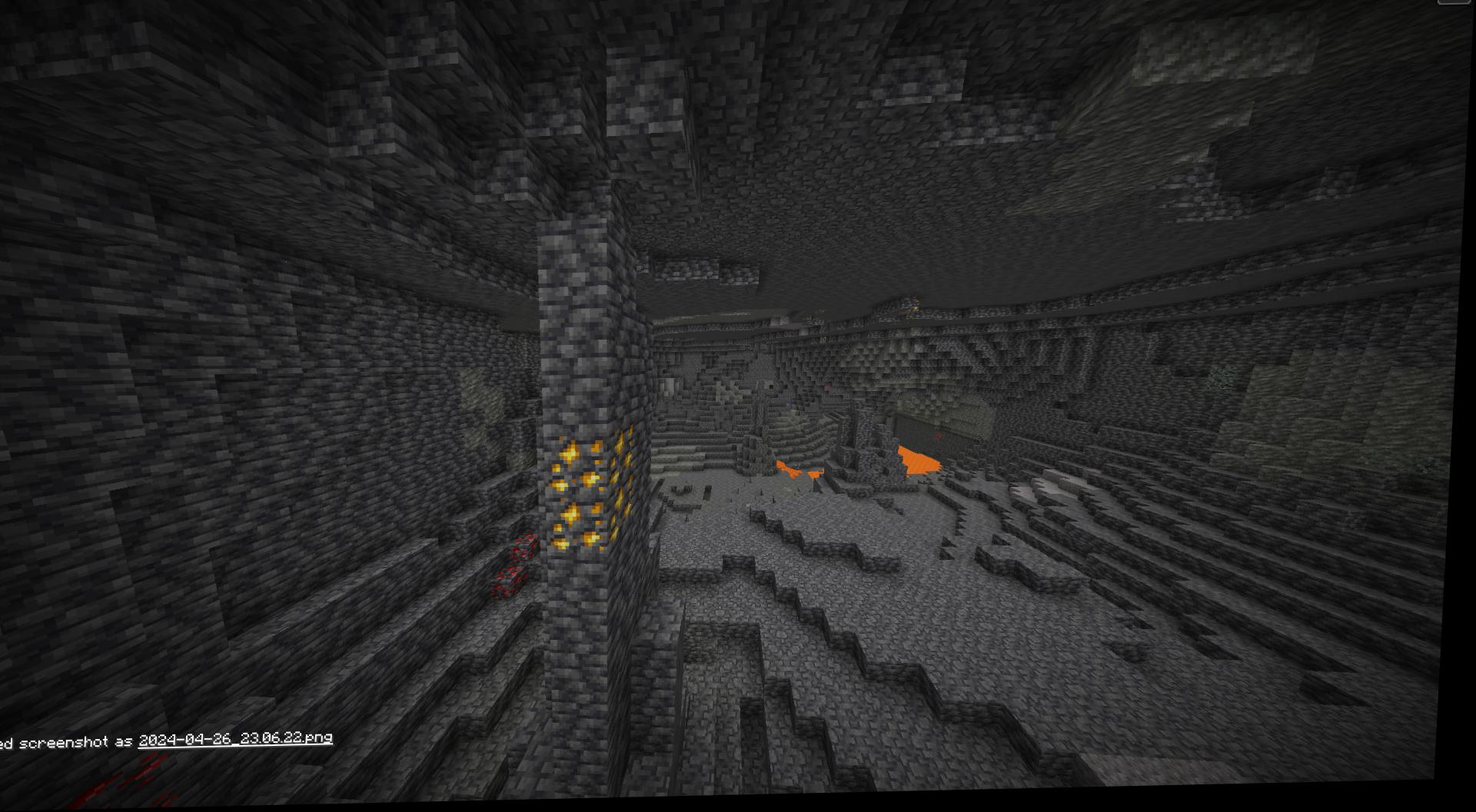gold ore: (548, 433, 612, 501), (551, 503, 614, 557), (611, 423, 641, 486), (617, 481, 639, 547)
redstone ore: (87, 750, 178, 810), (501, 565, 536, 599), (513, 533, 543, 561)
